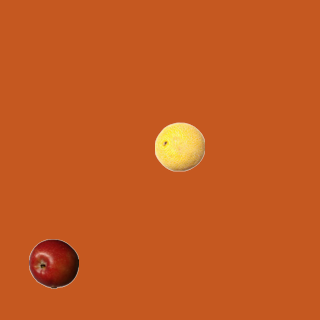Apple Braeburn: (28, 238, 78, 288)
Cantaloupe 1: (154, 121, 204, 171)
